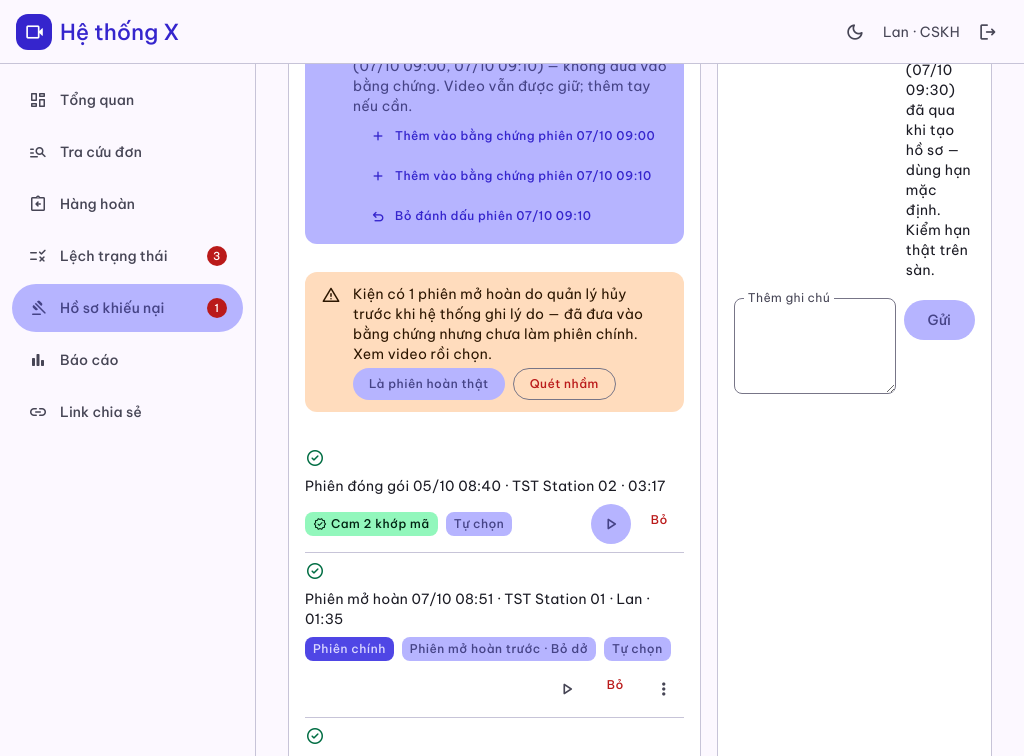
Scenario: 409 SESSION_NOT_ELIGIBLE → Toast message, đóng dialog, tải lại
(page scrolled)
Click the button "Quét nhầm".
click(564, 384)  # box [513, 368, 616, 400]
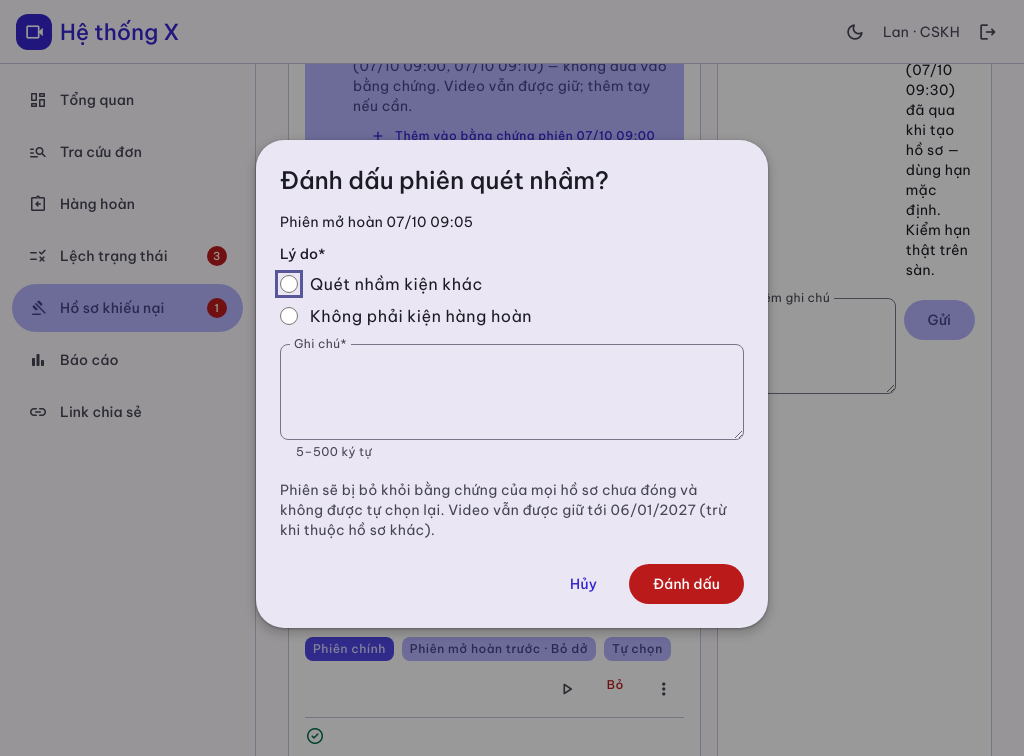
Click the radio button labelled "Không phải kiện hàng hoàn".
click(289, 316)  # box [280, 307, 298, 325]
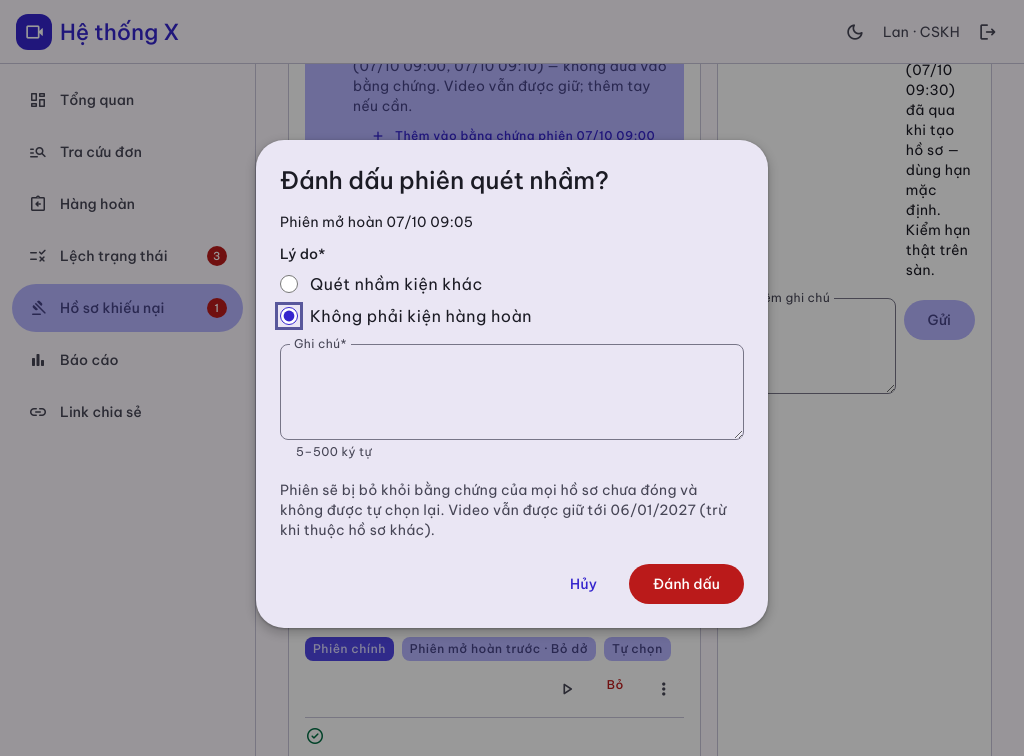
Type "Không phải hàng hoàn" into the text box labelled "Ghi chú*".
click(512, 392); type("Không phải hàng hoàn")  # box [280, 344, 744, 440]
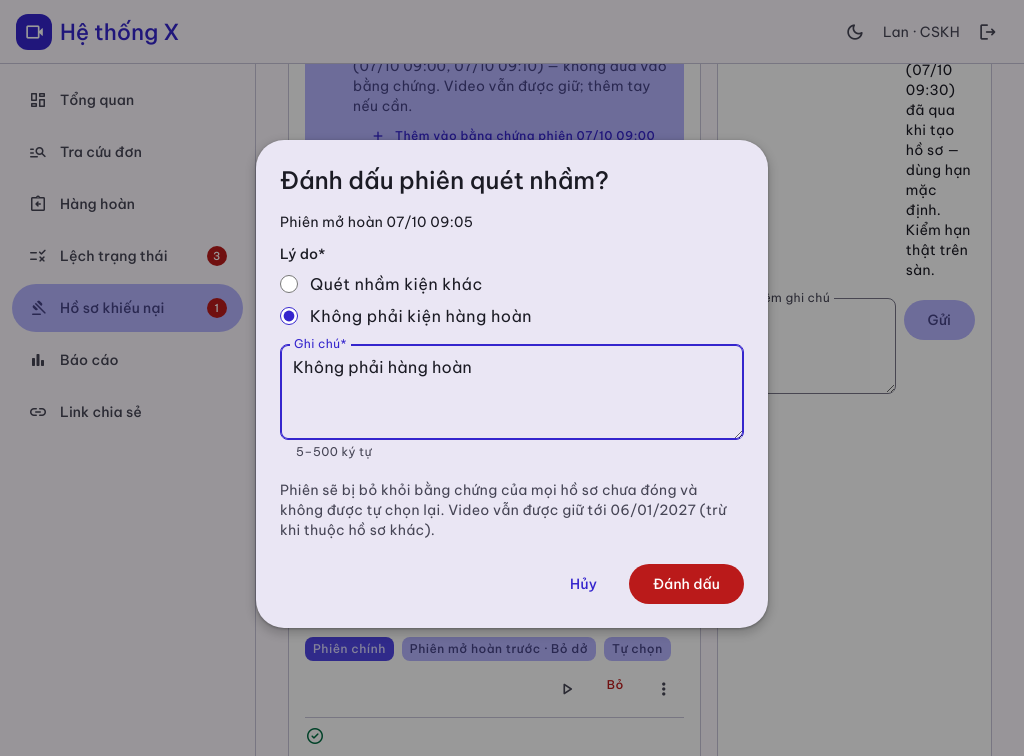
Click the button "Đánh dấu".
click(686, 584)  # box [629, 564, 744, 604]
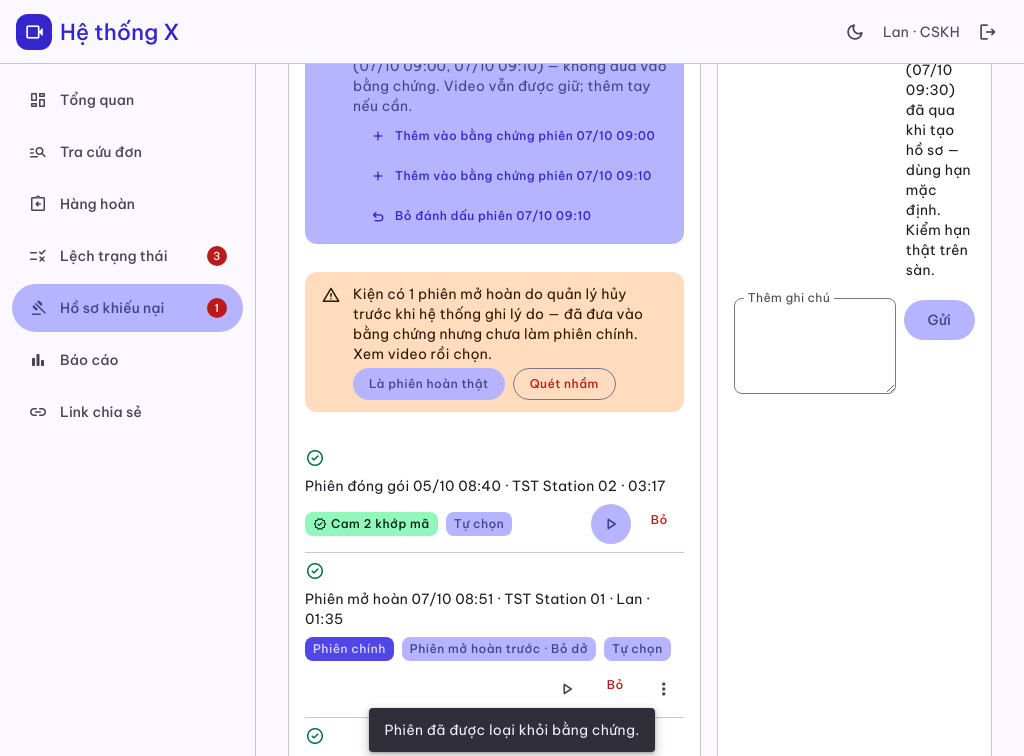
Now the text "Phiên đã được loại khỏi bằng chứng." is shown, box [369, 708, 656, 752]
Now the dialog is gone
